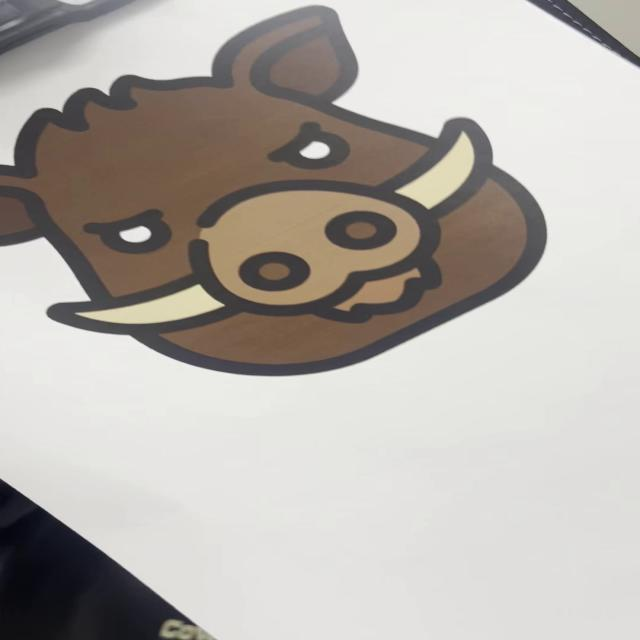animal: (9, 3, 549, 379)
